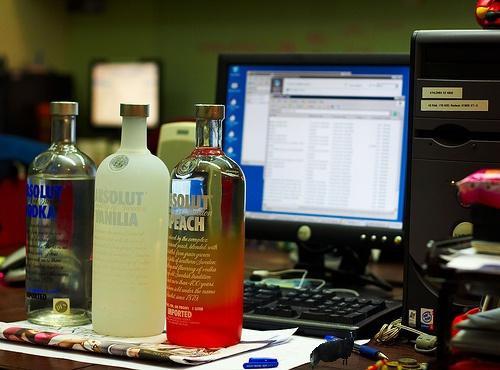tampered: (311, 333, 356, 369)
